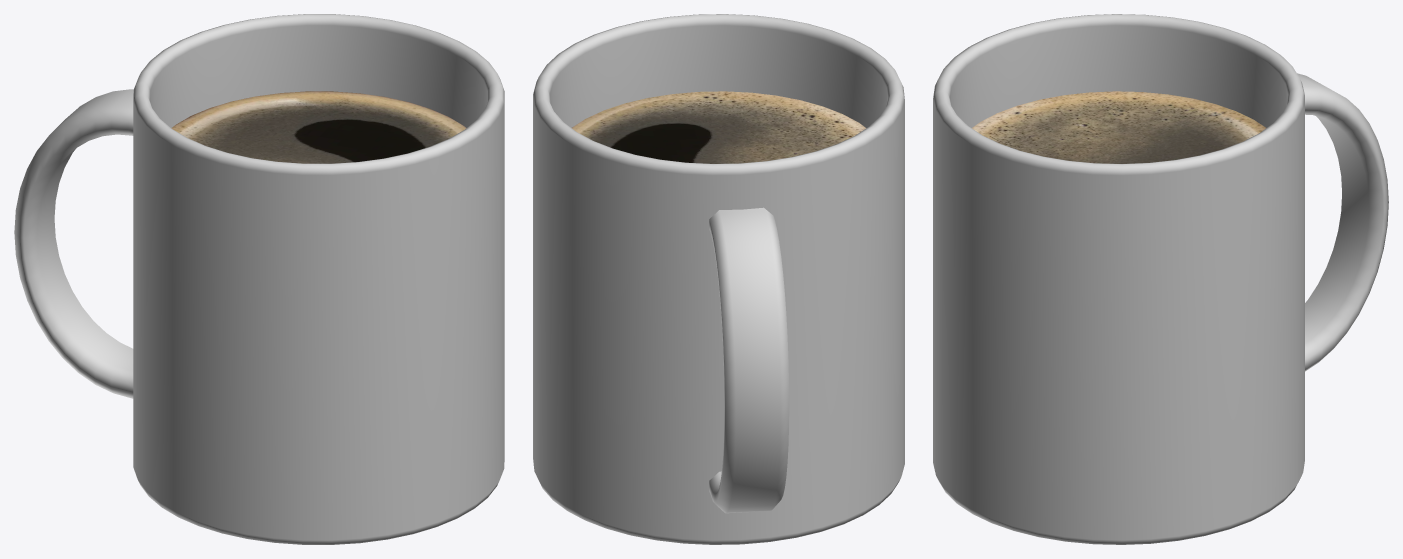
File: mug.glb
3 views of the same model, side by side, from view 1: azimuth 30°, elevation 25°; view 2: azimuth 150°, elevation 25°; view 3: azimuth 270°, elevation 25° (orthographic).
Visible parts, largest first — view 1: Mug1_Mug_0, Mug1_Coffee_0; view 2: Mug1_Mug_0, Mug1_Coffee_0; view 3: Mug1_Mug_0, Mug1_Coffee_0.
Part boxes in pixels (box(x1,y1,x2,y2)): Mug1_Mug_0: box(14, 14, 504, 544); Mug1_Coffee_0: box(171, 91, 466, 163); Mug1_Mug_0: box(533, 14, 904, 544); Mug1_Coffee_0: box(572, 91, 866, 163); Mug1_Mug_0: box(933, 14, 1388, 544); Mug1_Coffee_0: box(972, 91, 1266, 163).
Bounding box in the file's own units: 2.78 × 2.93 × 3.17.
Materials: 2 (1 with a texture image).
